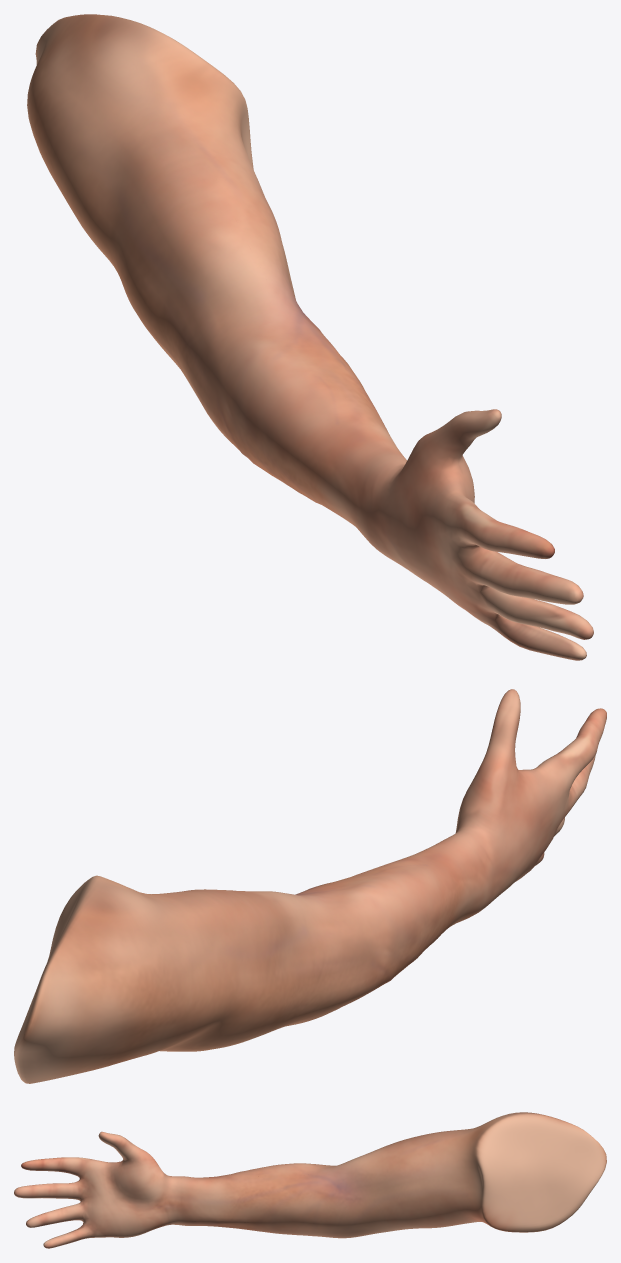
The model's file is right_male_arm.glb.
3 renders of one model, top to bottom at view 1: azimuth 30°, elevation 25°; view 2: azimuth 150°, elevation 25°; view 3: azimuth 270°, elevation 25°, orthographic. The views are drawn at different scales.
Visible parts, largest first — view 1: _gltfNode_0; view 2: _gltfNode_0; view 3: _gltfNode_0.
Part boxes in pixels (bbox=[...]): _gltfNode_0: bbox=[27, 14, 593, 660]; _gltfNode_0: bbox=[14, 689, 606, 1083]; _gltfNode_0: bbox=[14, 1112, 606, 1248].
Size of the model in its own units: 3.61 by 4.72 by 17.87.
1 material, 1 textured.
